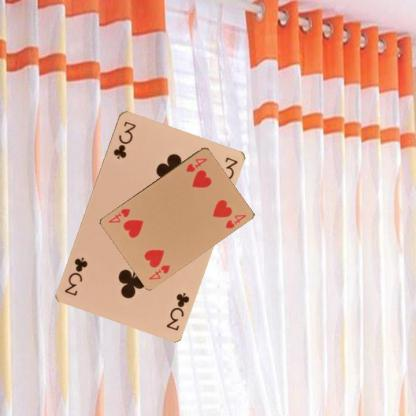3c: (110, 118, 137, 160), (164, 289, 190, 332)
4h: (146, 262, 172, 281), (183, 155, 209, 173)
